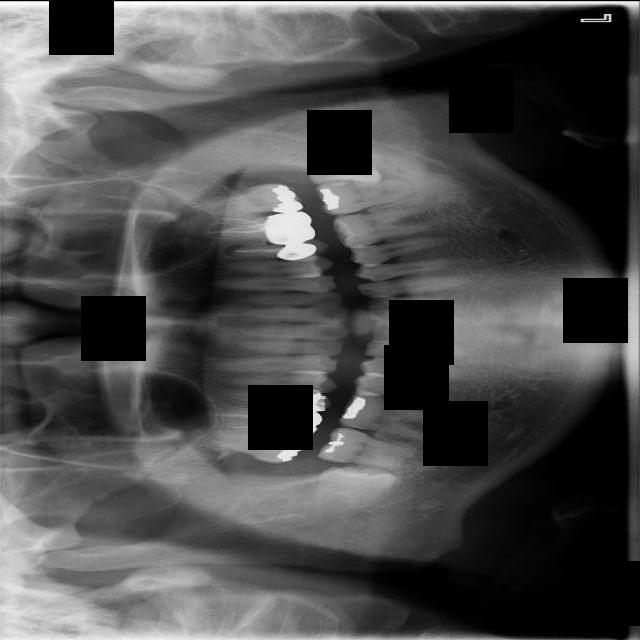52: (313, 415, 369, 473), (336, 381, 389, 438), (315, 172, 365, 222), (262, 207, 318, 248), (270, 403, 324, 439), (245, 181, 305, 213), (277, 385, 331, 414), (252, 435, 309, 462), (277, 236, 330, 264)
73: (193, 213, 271, 241), (205, 402, 276, 431), (229, 243, 280, 261), (584, 25, 598, 31)
BioHorizons Implant: (193, 181, 304, 214)
Biomet 3i Implant: (309, 141, 383, 185)
Blue Sky Bio Implant: (315, 177, 416, 215)
Caries: (191, 429, 310, 464)
Implant: (316, 424, 420, 473)
Keystone Dental Implant: (314, 465, 398, 510)
